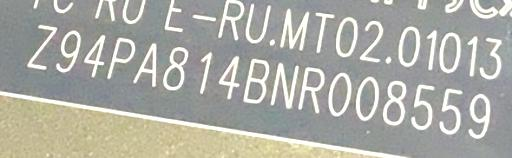letter: (26, 21, 56, 74), (269, 61, 299, 111), (106, 36, 136, 85), (298, 65, 326, 115), (132, 40, 160, 89), (242, 56, 270, 104), (381, 79, 409, 126), (162, 45, 190, 91), (54, 29, 82, 74), (410, 79, 434, 131), (438, 83, 462, 134), (467, 90, 491, 139), (218, 53, 242, 99), (328, 70, 352, 116), (356, 75, 380, 121), (82, 33, 106, 78), (198, 49, 212, 95)
